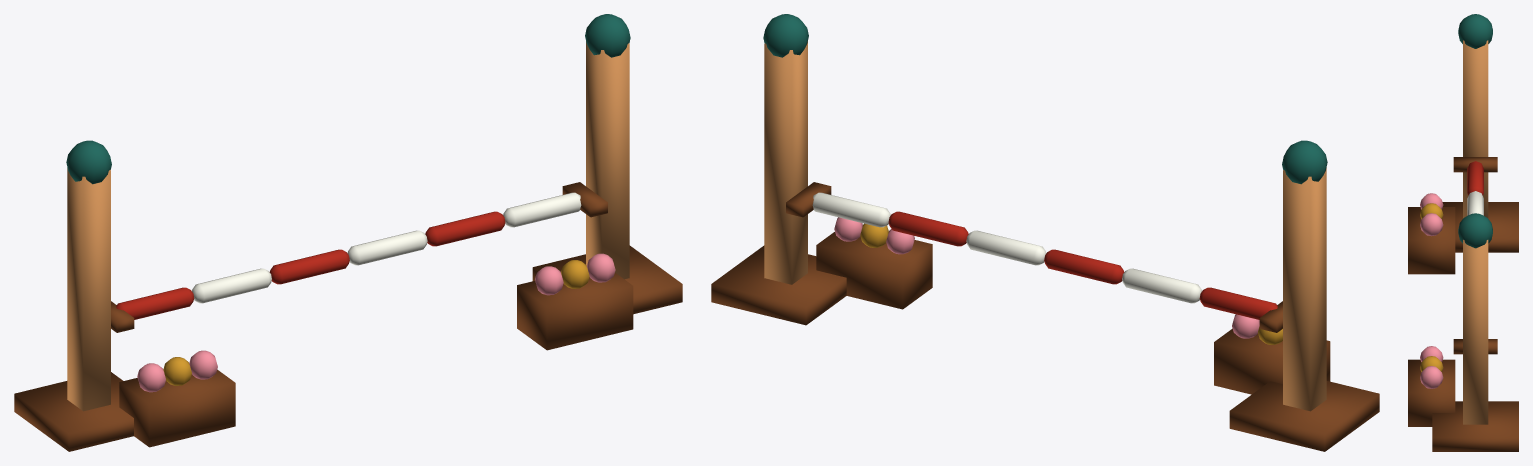
The model's file is hindernis_a.glb.
The picture shows the model from 3 angles, left to right: view 1: azimuth 30°, elevation 25°; view 2: azimuth 150°, elevation 25°; view 3: azimuth 270°, elevation 25°; orthographic projection. The views are drawn at different scales.
Visible parts, largest first — view 1: RanchHindernisA; view 2: RanchHindernisA; view 3: RanchHindernisA.
Boxes of the visible parts, box(x1,y1,x2,y2) form: RanchHindernisA: box(14, 14, 682, 451); RanchHindernisA: box(711, 14, 1379, 451); RanchHindernisA: box(1408, 14, 1518, 451).
Bounding box in the file's own units: 3.55 × 1.53 × 0.705.
Materials: 1 (1 with a texture image).
